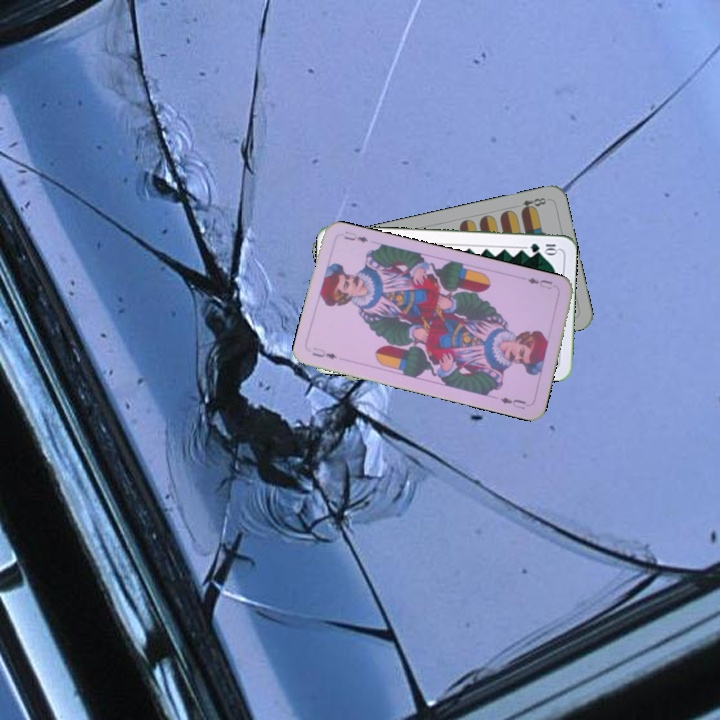E8: (517, 193, 549, 215)
EU: (523, 273, 555, 292), (308, 343, 340, 362)
G10: (526, 239, 560, 255)
